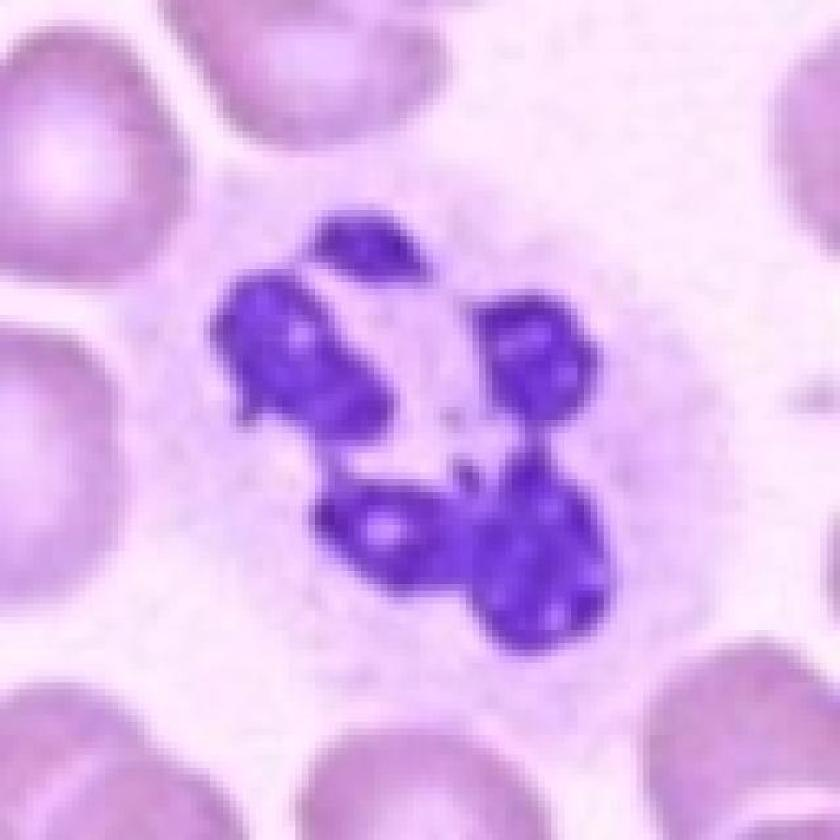neutrophil: (144, 157, 737, 684)
